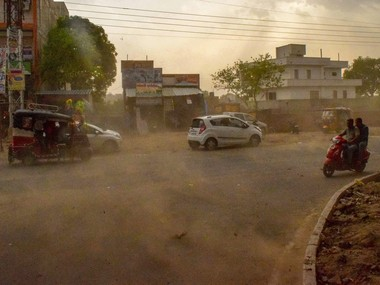car: (8, 104, 99, 164), (187, 113, 263, 149), (80, 120, 121, 152)
motorcycle: (321, 130, 372, 176)
person: (351, 116, 372, 169), (335, 117, 354, 171)
